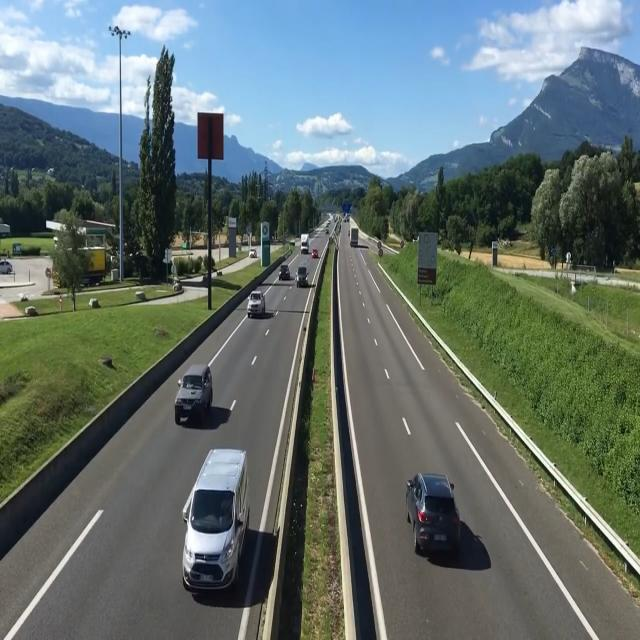car: (185, 446, 249, 606), (406, 473, 480, 577), (175, 362, 216, 430), (247, 282, 274, 321), (296, 257, 311, 291), (275, 259, 291, 285), (301, 230, 309, 257)
truck: (347, 216, 366, 249)
